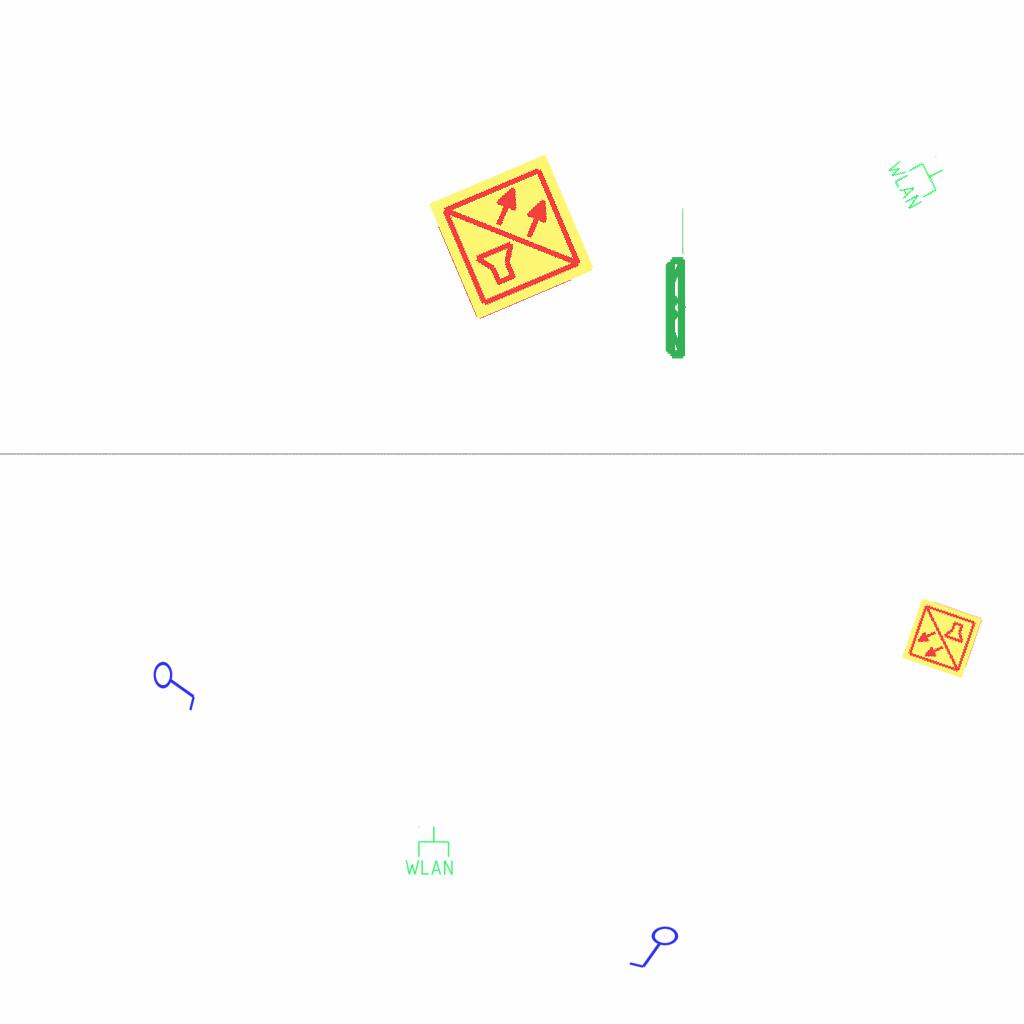Ausschalter: (628, 925, 684, 973), (152, 656, 200, 712)
OKW_Multisensormelder_(Kombination_optischer_Rauch-Kahlenmonoxid_Waerme-Melder): (425, 150, 599, 324), (900, 596, 984, 680)
Sicherheitsleuchte_Wandeinbau: (662, 203, 687, 362)
WLAN: (883, 141, 955, 213), (403, 825, 455, 877)
